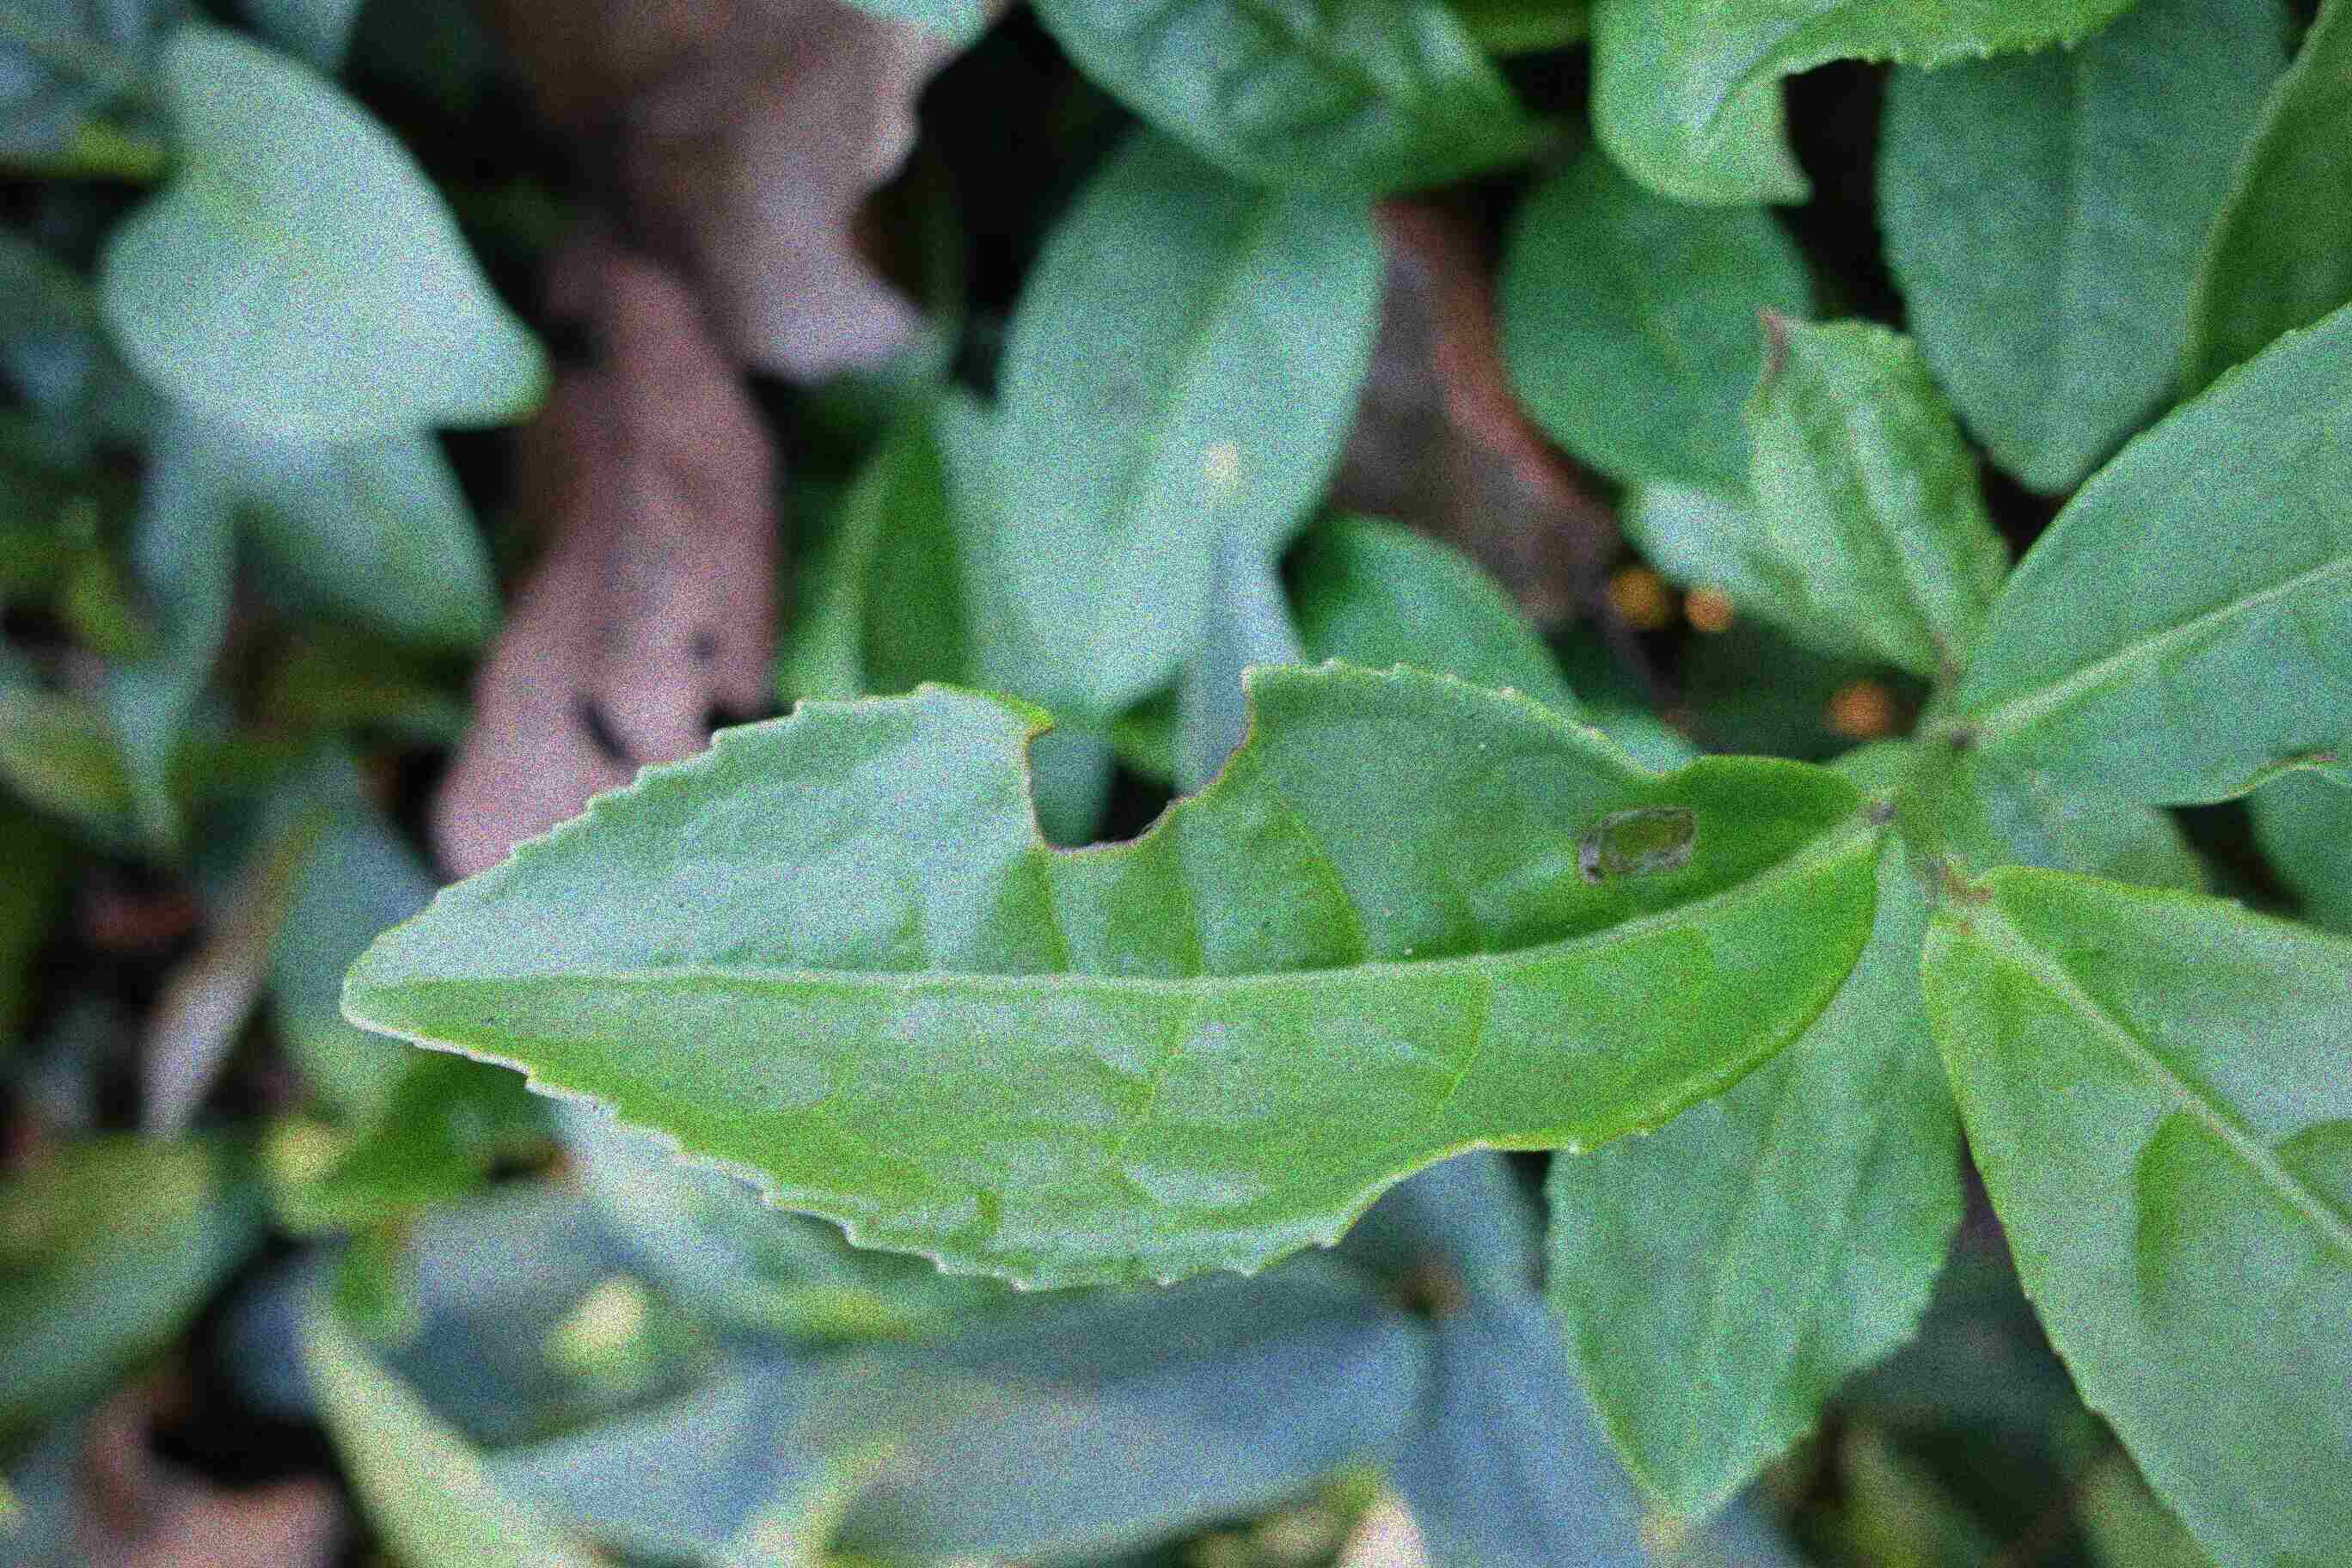chihuo_low: (336, 630, 1886, 1295)
healthy: (1920, 859, 2350, 1566)
